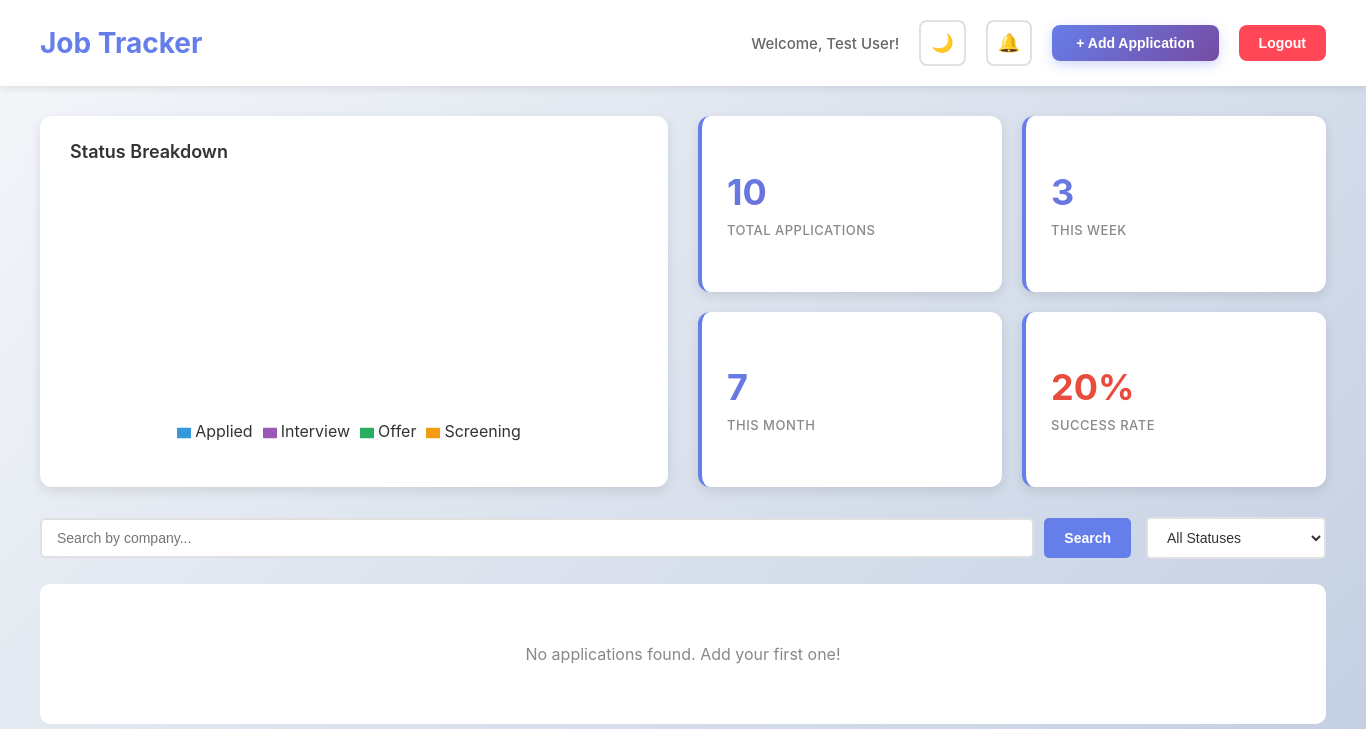
Scenario: Dashboard Component › User Interactions › opens form modal when clicking add application
The width and height of the screenshot is (1366, 729).
Expected: the text "Welcome, Test User!" is shown, [751,34,899,52]
Click the button "+ Add Application": (1135, 43) [1052,25,1219,61]
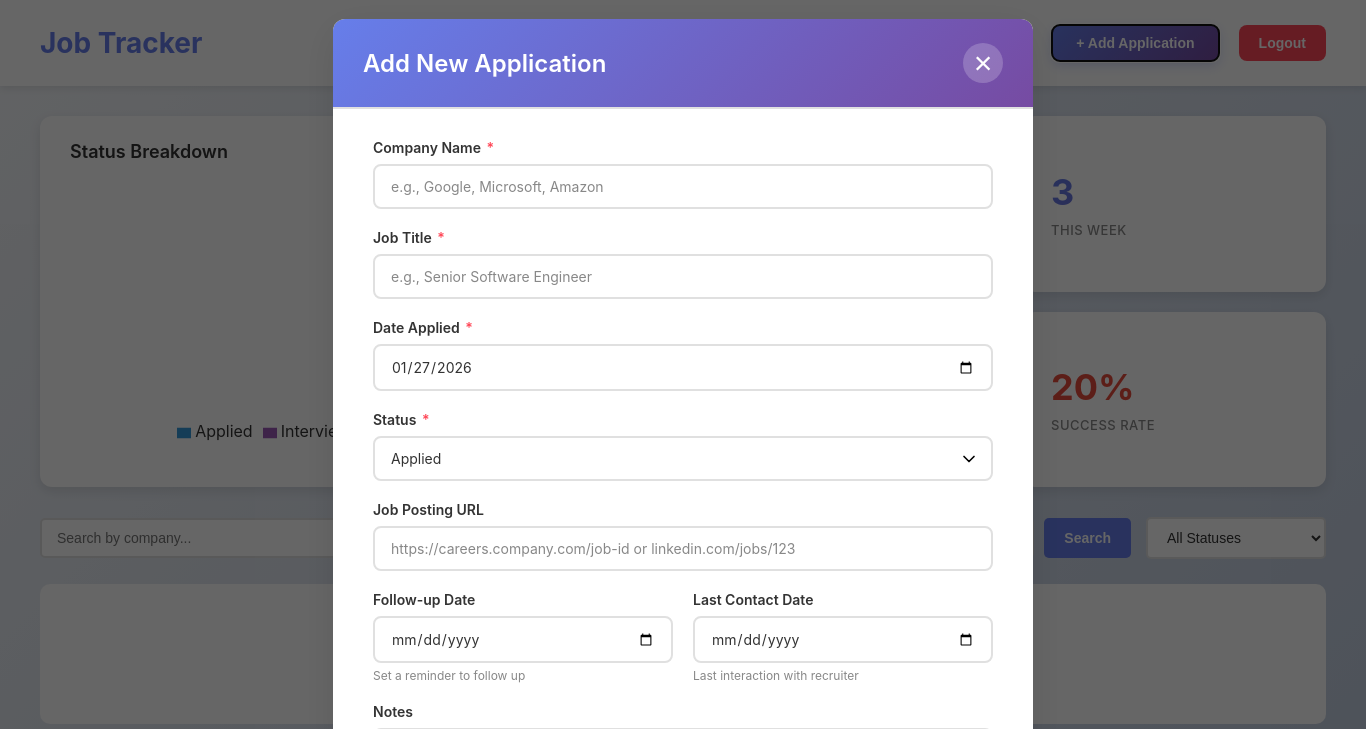
Now the heading "Add New Application" is shown, box [363,49,606,78]
